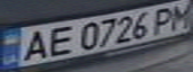0: (75, 19, 103, 51)
2: (115, 12, 139, 44)
6: (130, 9, 157, 39)
7: (96, 16, 121, 47)
A: (12, 27, 54, 63)
E: (39, 24, 78, 57)
M: (166, 0, 193, 30)
P: (148, 5, 181, 35)
